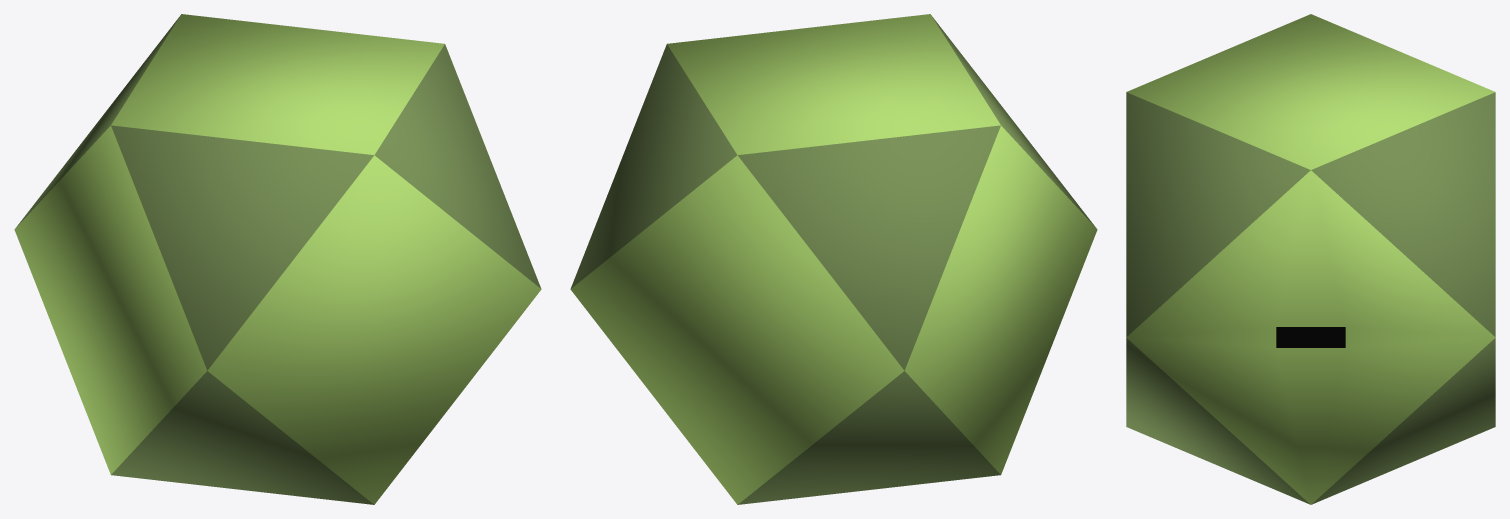
Rendered from coriolis.fbx.
The picture shows the model from 3 angles, left to right: view 1: azimuth 30°, elevation 25°; view 2: azimuth 150°, elevation 25°; view 3: azimuth 270°, elevation 25°; orthographic projection. The views are drawn at different scales.
Parts seen in each view (by area): view 1: Coriolis; view 2: Coriolis; view 3: Coriolis.
Part boxes in pixels (<box>): Coriolis: <box>14,14,541,504</box>; Coriolis: <box>570,14,1097,504</box>; Coriolis: <box>1126,14,1495,504</box>.
Bounding box in the file's own units: 3.2 × 3.2 × 3.2.
